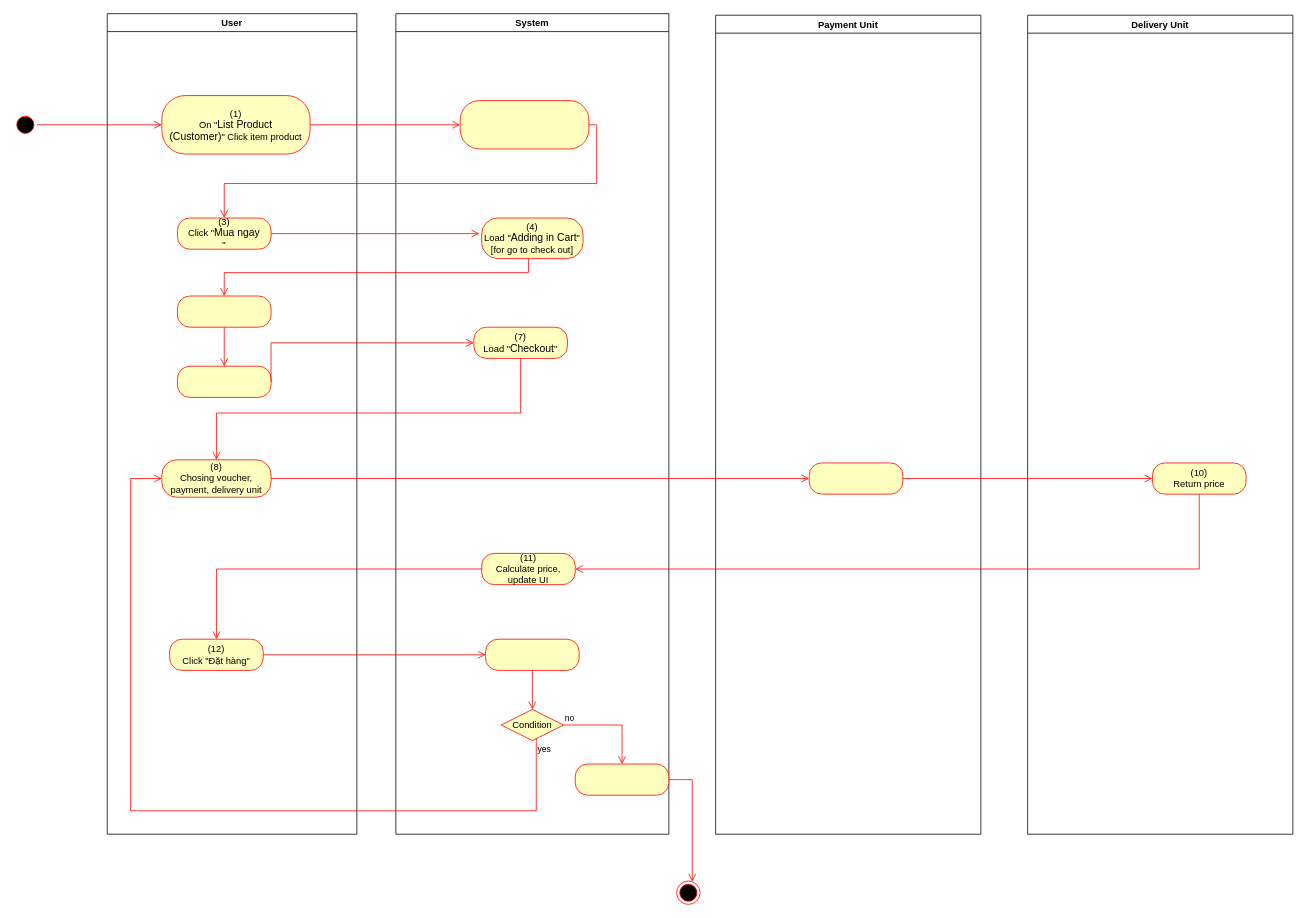
Image size: 1307x918. Some labels were removed from this diagram. The centre of each missing label's shape, as x and y in pixels:
(13) Validate: pixel 532 654
(13.1) Create new order on DB: pixel 621 779
(2) Load " Product Detail (Customer) " Screen: pixel 524 124
(5) Giving input: pixel 224 311
(6) Click "Tạo đơn hàng": pixel 224 381
(9) Return price: pixel 855 478
